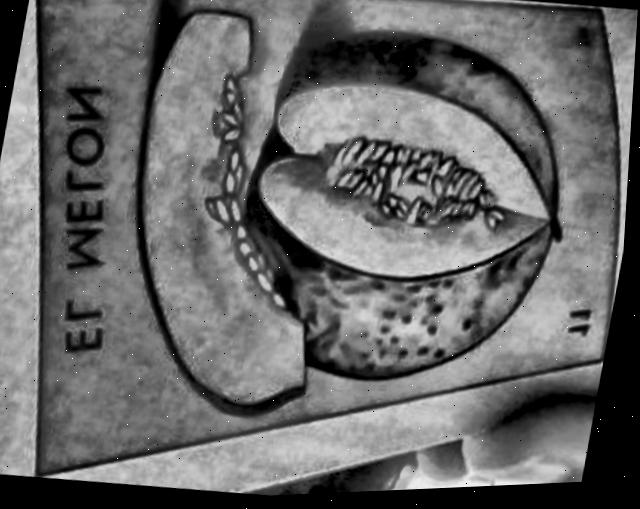El Melon: (35, 0, 606, 475)
